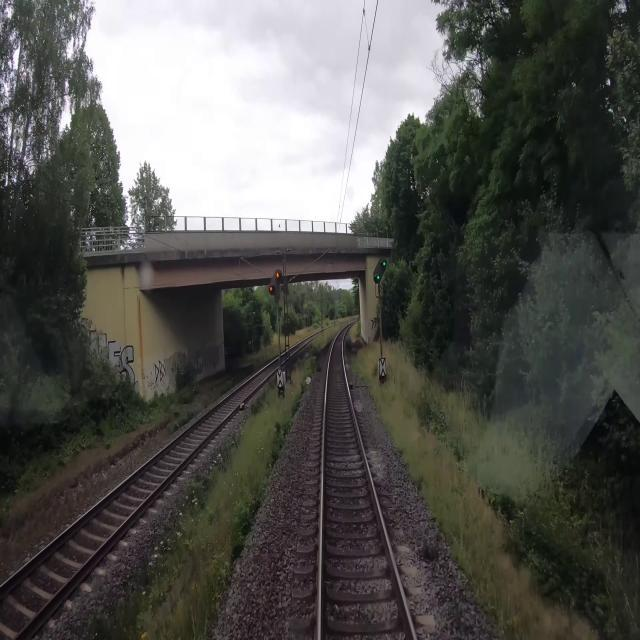Plant: (86, 320, 350, 639)
